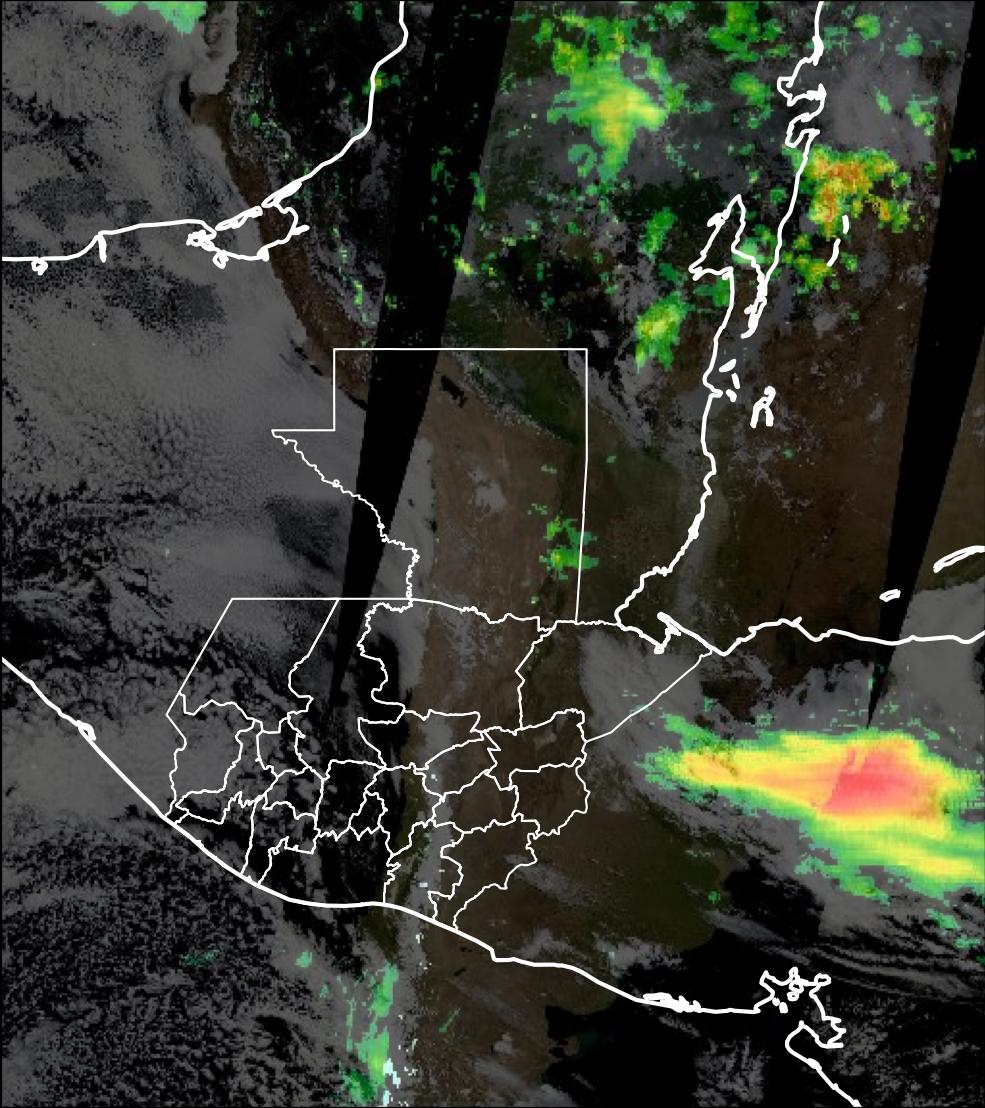precipitacion: (694, 719, 968, 849)
